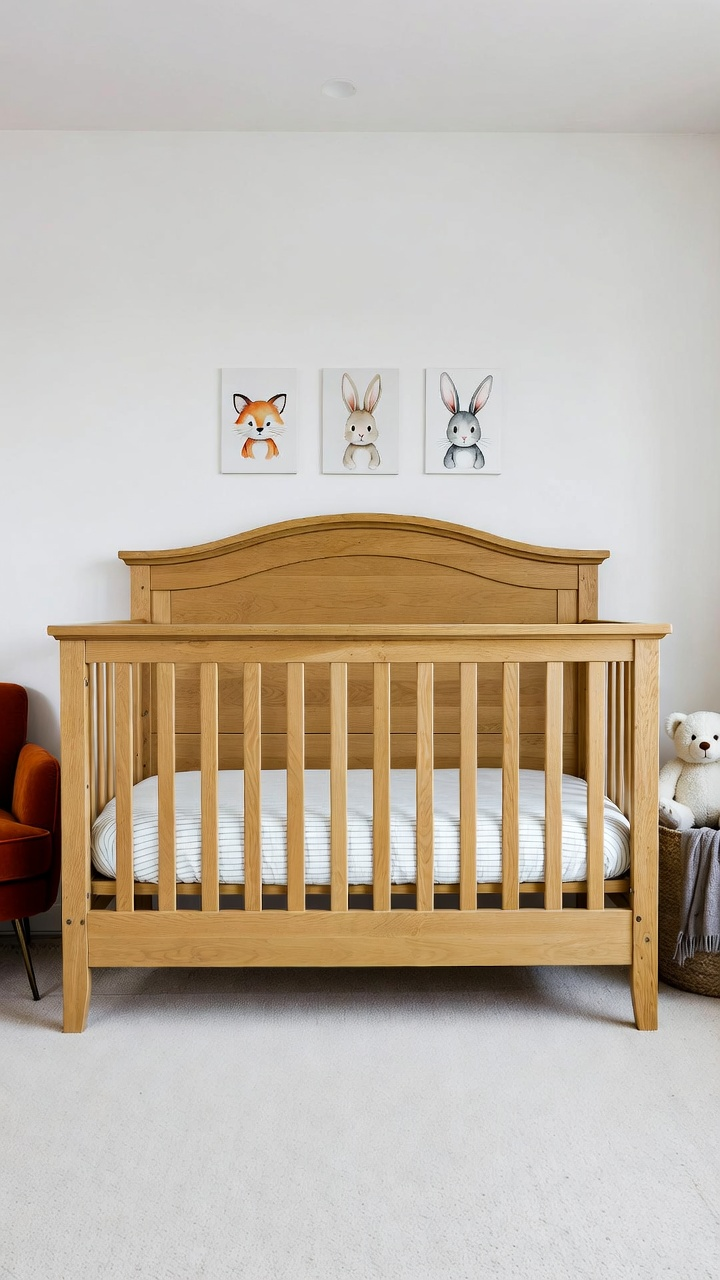crib: (48, 513, 672, 1032)
